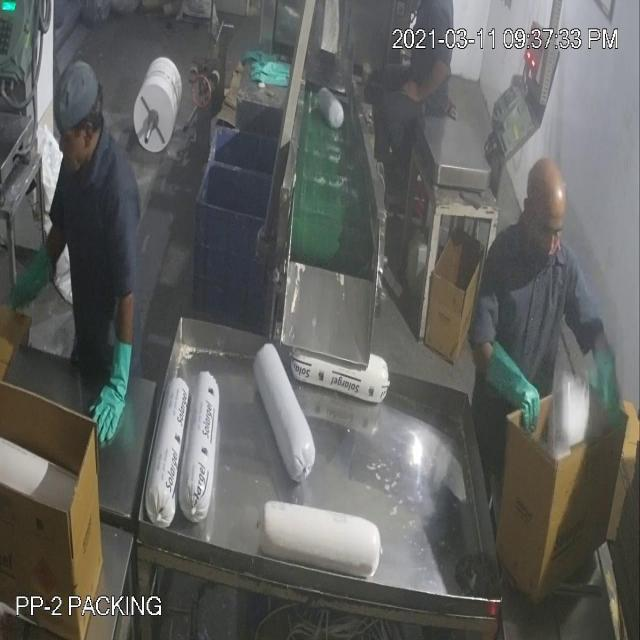Gloves: (34, 60, 605, 385)
